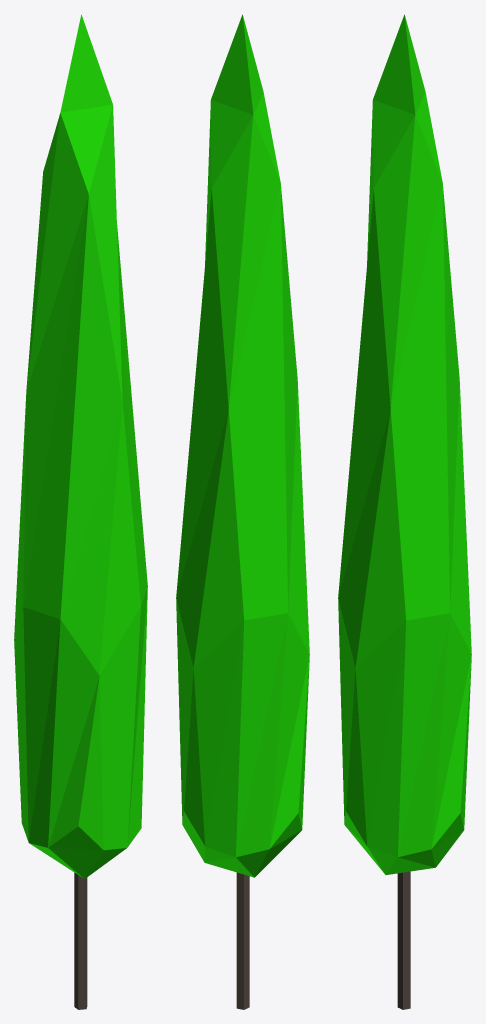
The model's file is TREE.FBX.
3 views of the same model, side by side, from view 1: azimuth 30°, elevation 25°; view 2: azimuth 210°, elevation 25°; view 3: azimuth 330°, elevation 25° (orthographic).
Visible parts, largest first — view 1: Trees; view 2: Trees; view 3: Trees.
Boxes of the visible parts, x1,y1,x2,y2 form: Trees: (14, 14, 147, 1009); Trees: (176, 14, 309, 1009); Trees: (338, 14, 471, 1009).
Bounding box in the file's own units: 68.51 × 556 × 67.82.
